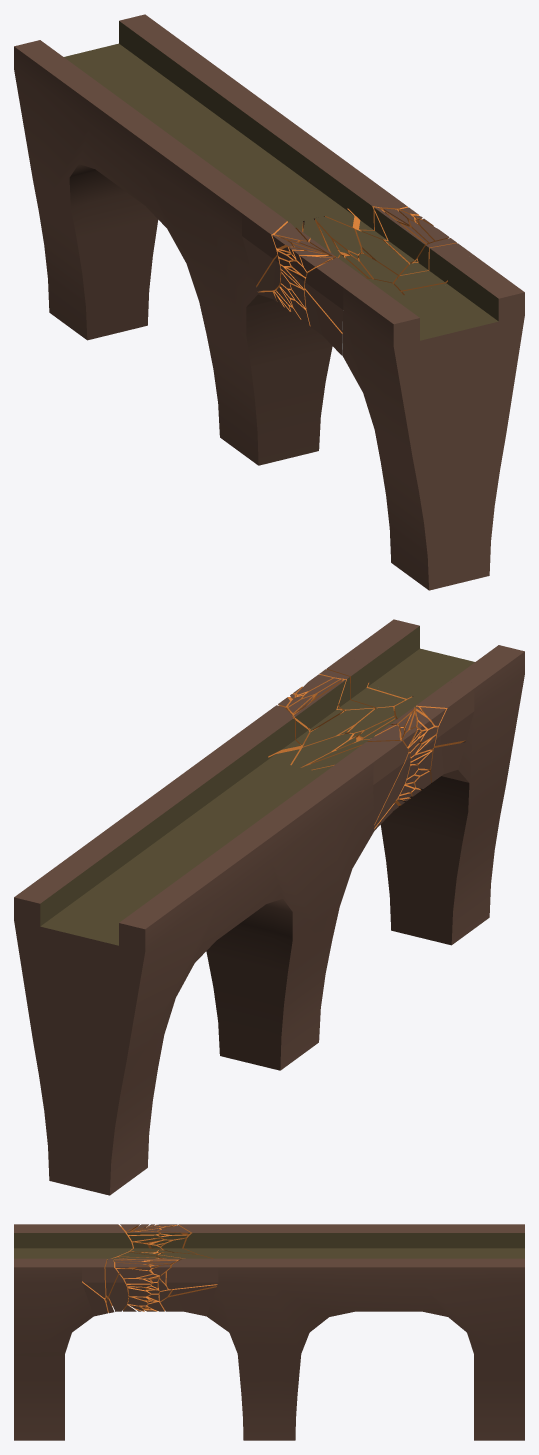
The model's file is aquaedukt_broken (1).fbx.
3 renders of one model, top to bottom at view 1: azimuth 30°, elevation 25°; view 2: azimuth 150°, elevation 25°; view 3: azimuth 270°, elevation 25°, orthographic. The views are drawn at different scales.
Parts seen in each view (by area): view 1: aquaedukt_broken, aquaedukt_broken_cell.224, aquaedukt_broken_cell.222, aquaedukt_broken_cell.187, aquaedukt_broken_cell.196, aquaedukt_broken_cell.137, aquaedukt_broken_cell.136, aquaedukt_broken_cell.223, aquaedukt_broken_cell.132; view 2: aquaedukt_broken, aquaedukt_broken_cell.224, aquaedukt_broken_cell.222, aquaedukt_broken_cell.196, aquaedukt_broken_cell.187, aquaedukt_broken_cell.137, aquaedukt_broken_cell.136, aquaedukt_broken_cell.223, aquaedukt_broken_cell.132; view 3: aquaedukt_broken, aquaedukt_broken_cell.224, aquaedukt_broken_cell.187, aquaedukt_broken_cell.222, aquaedukt_broken_cell.191, aquaedukt_broken_cell.196, aquaedukt_broken_cell.192, aquaedukt_broken_cell.197, aquaedukt_broken_cell.194, aquaedukt_broken_cell.117, aquaedukt_broken_cell.190.
Part boxes in pixels (x1,y1,x2,y2): aquaedukt_broken: (14,14,524,590); aquaedukt_broken_cell.224: (305,257,403,332); aquaedukt_broken_cell.222: (242,207,303,286); aquaedukt_broken_cell.187: (347,181,407,230); aquaedukt_broken_cell.196: (394,243,473,292); aquaedukt_broken_cell.137: (374,207,425,263); aquaedukt_broken_cell.136: (356,229,408,278); aquaedukt_broken_cell.223: (304,289,342,355); aquaedukt_broken_cell.132: (315,216,361,257); aquaedukt_broken: (14,619,524,1195); aquaedukt_broken_cell.224: (394,682,474,749); aquaedukt_broken_cell.222: (313,740,408,823); aquaedukt_broken_cell.196: (326,656,404,710); aquaedukt_broken_cell.187: (242,705,300,755); aquaedukt_broken_cell.137: (294,679,345,730); aquaedukt_broken_cell.136: (303,708,374,747); aquaedukt_broken_cell.223: (427,742,465,782); aquaedukt_broken_cell.132: (292,733,353,767); aquaedukt_broken: (14,1224,524,1440); aquaedukt_broken_cell.224: (82,1224,133,1259); aquaedukt_broken_cell.187: (166,1258,218,1289); aquaedukt_broken_cell.222: (178,1224,218,1258); aquaedukt_broken_cell.191: (160,1287,216,1316); aquaedukt_broken_cell.196: (82,1258,106,1298); aquaedukt_broken_cell.192: (109,1274,128,1311); aquaedukt_broken_cell.197: (82,1281,112,1316); aquaedukt_broken_cell.194: (105,1258,120,1298); aquaedukt_broken_cell.117: (159,1238,195,1254); aquaedukt_broken_cell.190: (161,1281,217,1299).
Size of the model in its own units: 200 by 399 by 1000.
